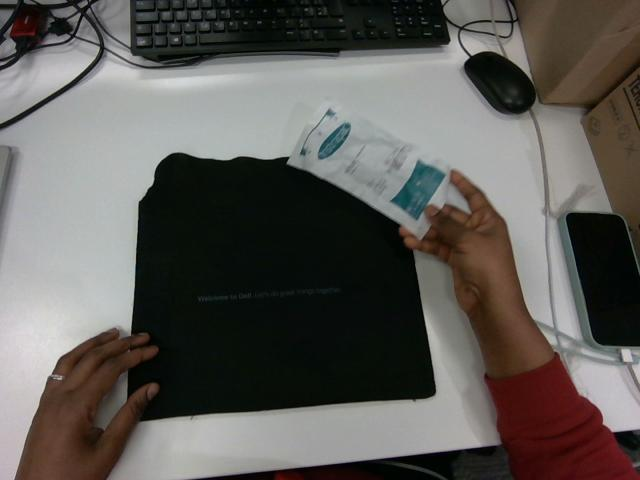gallipot: (287, 103, 449, 237)
